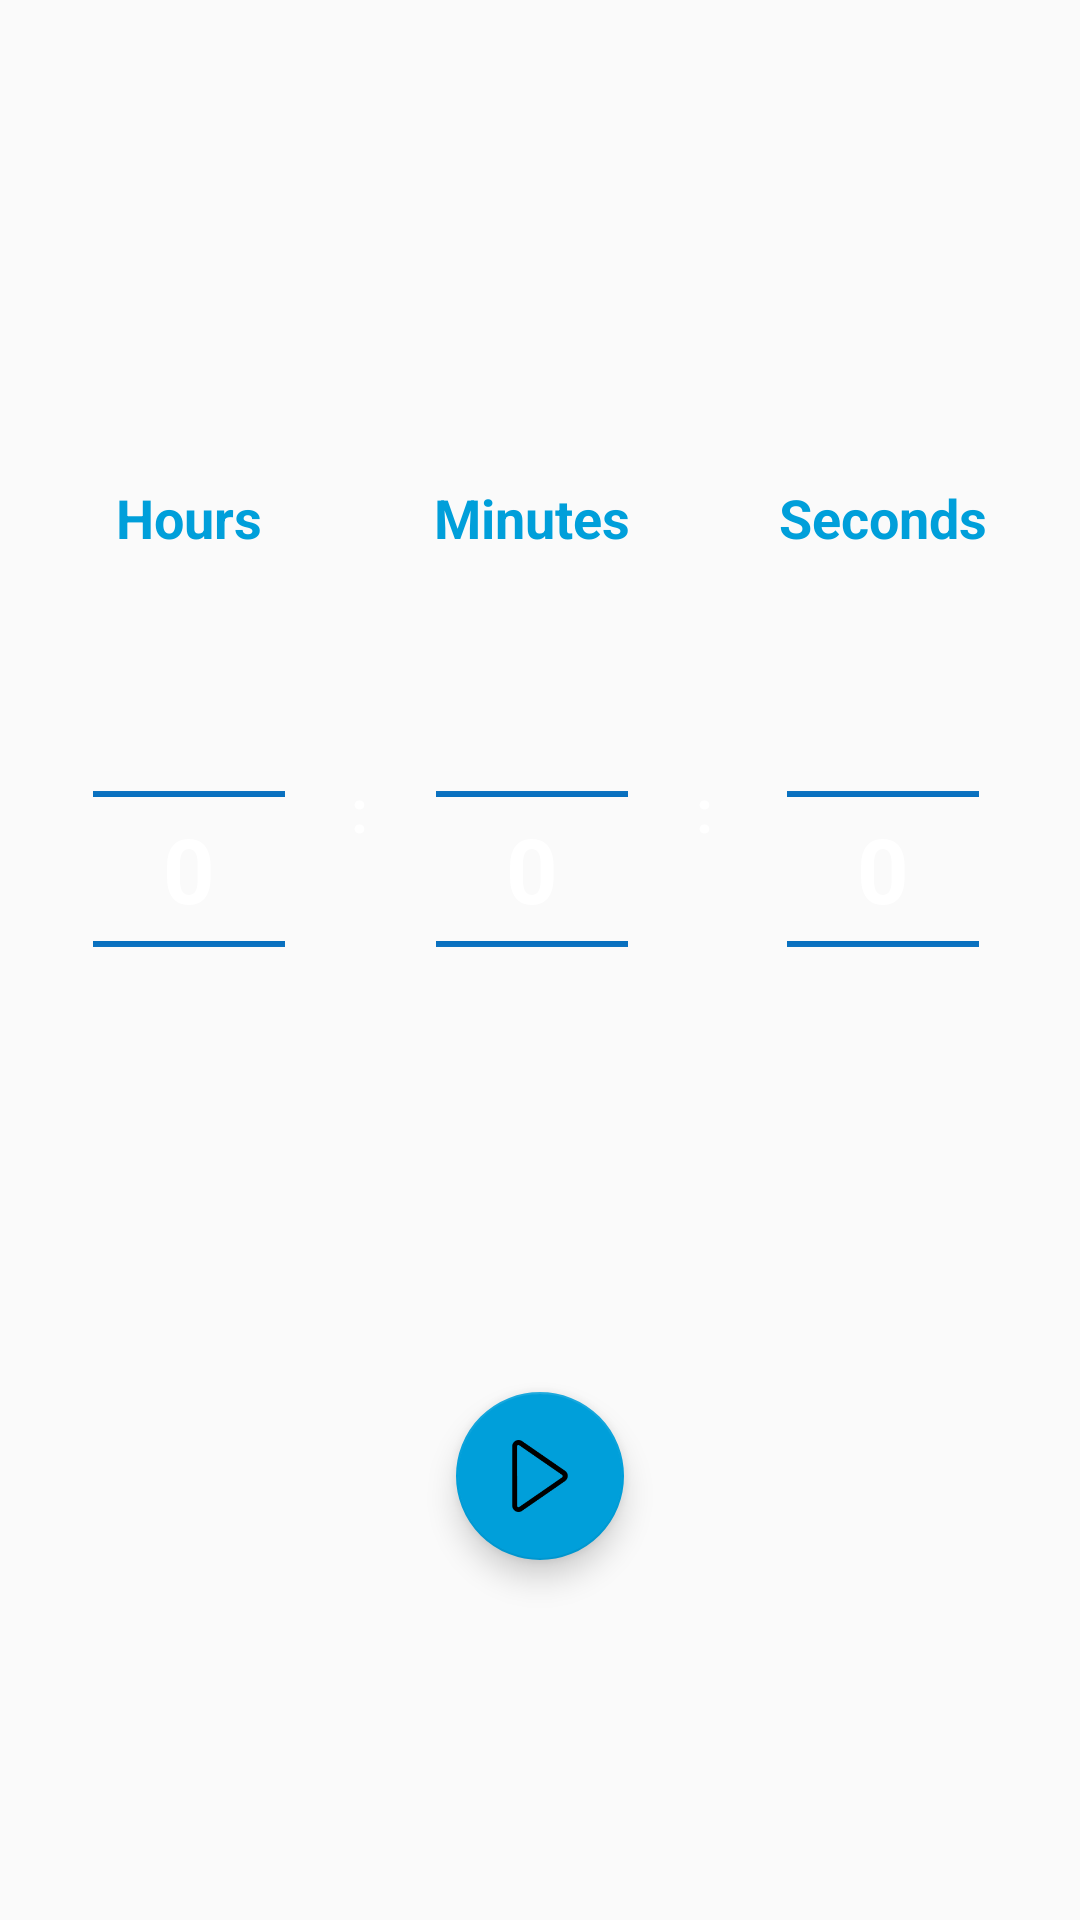

Icon bounding boxes for this 1080px×1920px phone screenshot, format (x1, y1, x2, y2):
play: (456, 1392, 624, 1560)
